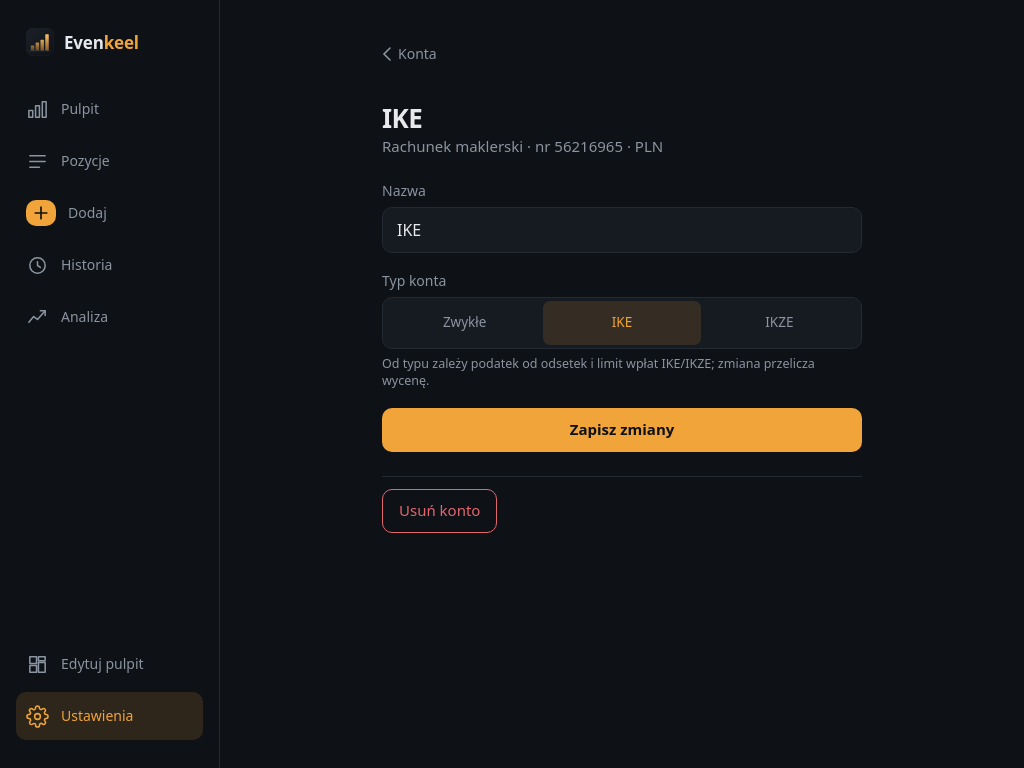
Test: account settings › deletes only after the account's name is typed, and says what goes with it
This screenshot has width=1024, height=768.
Click the button "Usuń konto". click: click(440, 511)
box: [382, 489, 497, 533]
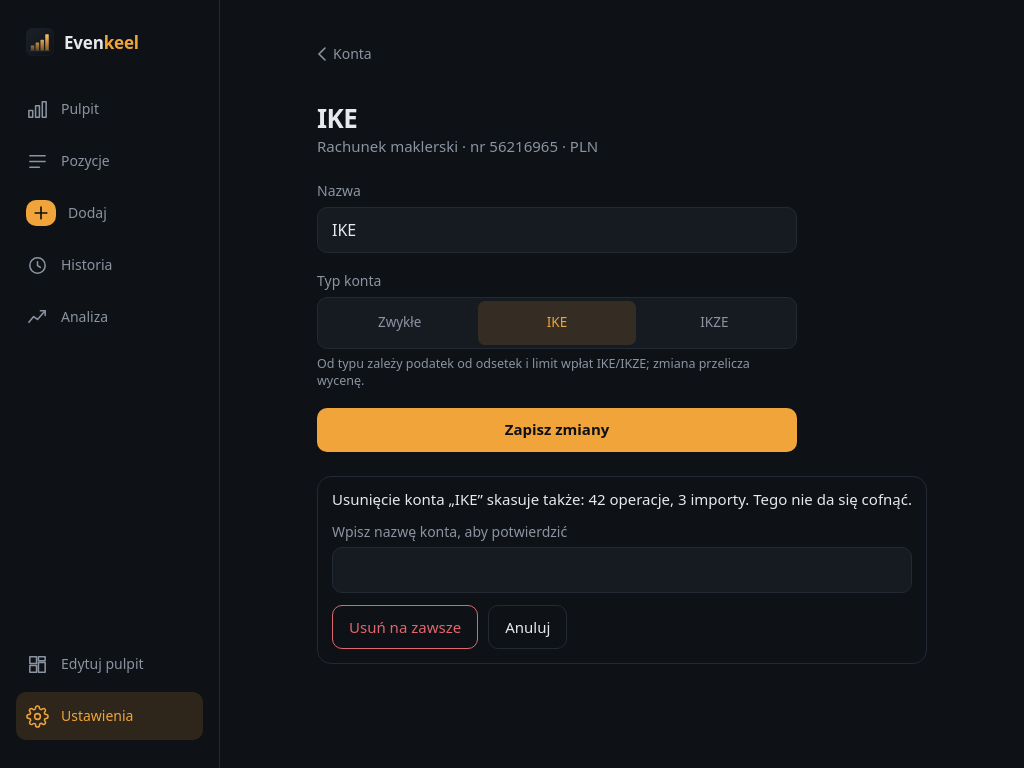
Result: the text "42 operacje, 3 importy" is shown at [543, 489, 745, 509]
Result: the button "Usuń na zawsze" is disabled at [332, 605, 478, 649]
Type "ike" into the field labelled "Wpisz nazwę konta, aby potwierdzić". click: (622, 570)
box: [332, 547, 912, 593]
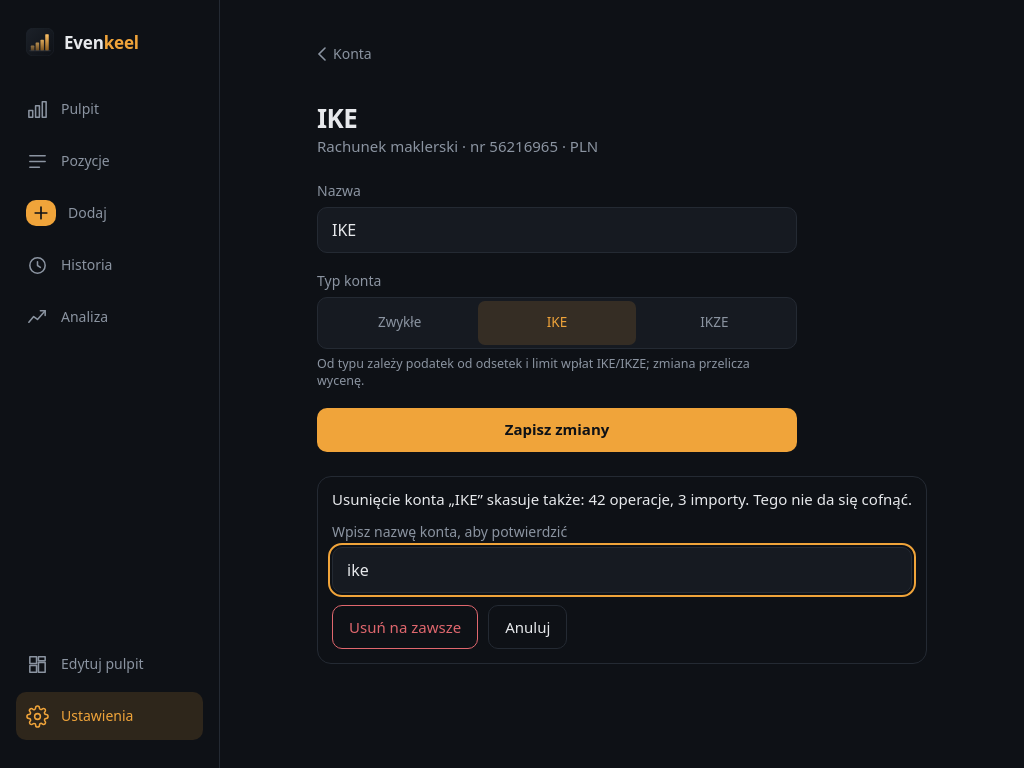
Result: the button "Usuń na zawsze" is disabled at [332, 605, 478, 649]
Replace the text in the field labelled "Wpisz nazwę konta, aby potwierdzić" with " IKE ". click: (622, 570)
box: [332, 547, 912, 593]
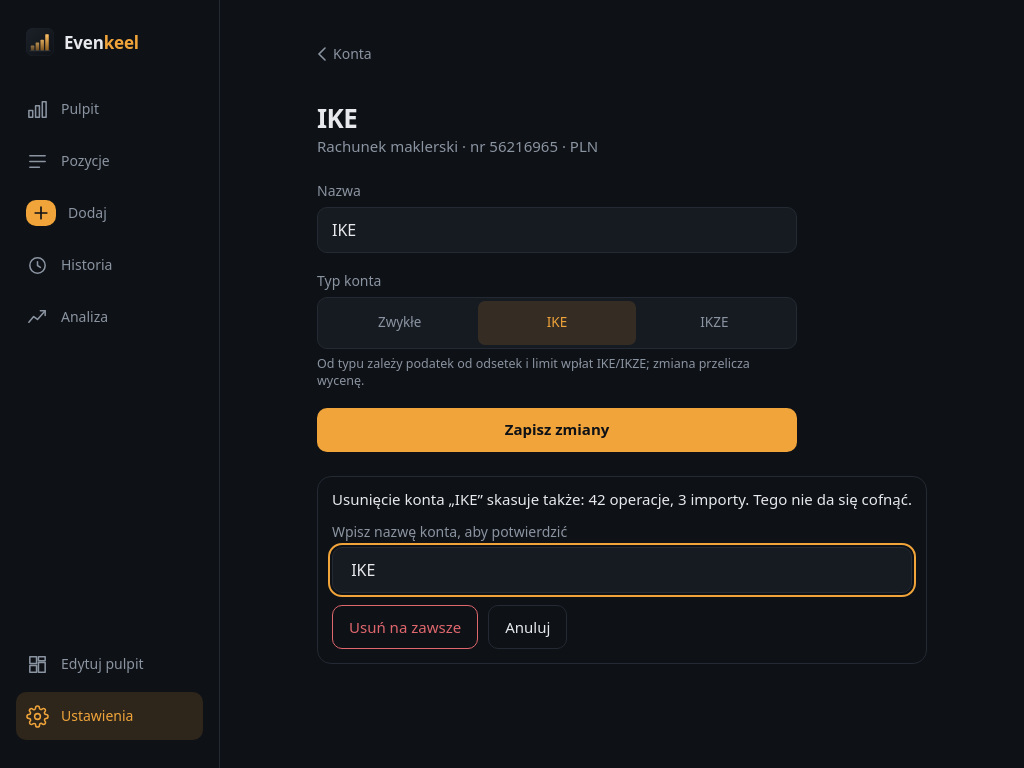
Click the button "Usuń na zawsze". click: click(405, 627)
box: [332, 605, 478, 649]
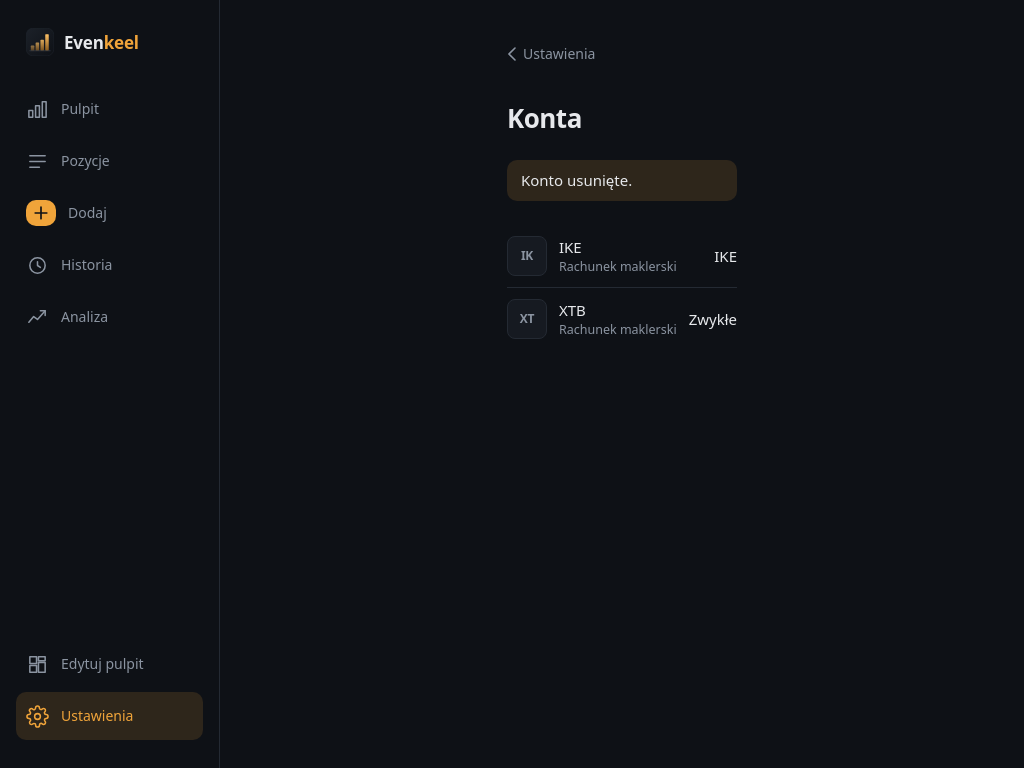
Result: the text "Konto usunięte." is shown at [507, 160, 737, 201]
